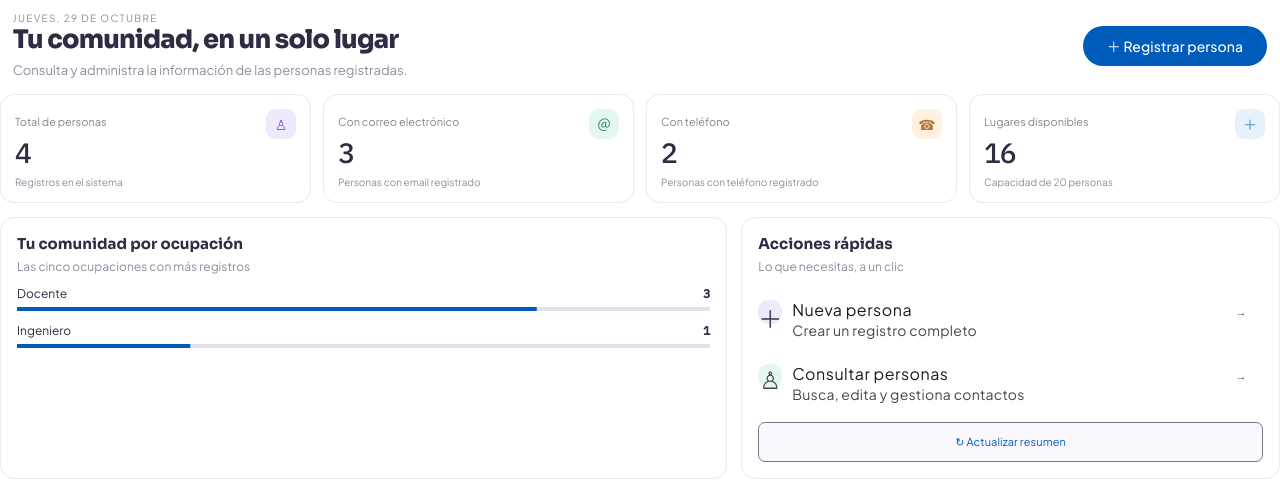
Test: DashboardComponent › actualiza el resumen desde la acción Material
Step 1. Click the button with class "refresh-action" → (1011, 442), box top-left (758, 422), bottom-right (1263, 462)
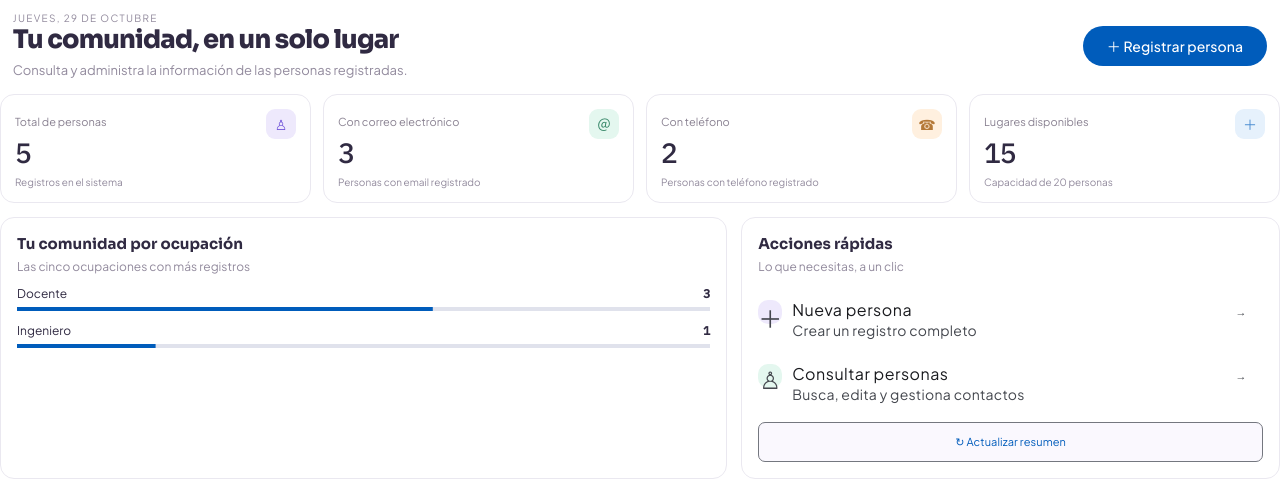
Result: the text with class "stat-value" reads "5" at top-left (15, 134), bottom-right (31, 170)
